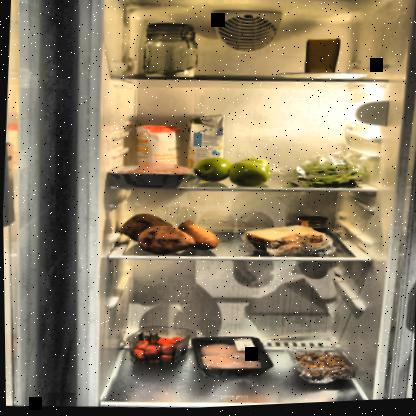apple: (187, 153, 277, 192)
cheese: (303, 39, 341, 80)
chicken: (186, 333, 275, 384)
green_beans: (284, 153, 367, 195)
ground_beef: (103, 159, 193, 193)
milk: (185, 113, 227, 180)
shrimp: (288, 350, 358, 387)
strawberries: (128, 331, 188, 370)
sweet_potato: (115, 210, 225, 261)
